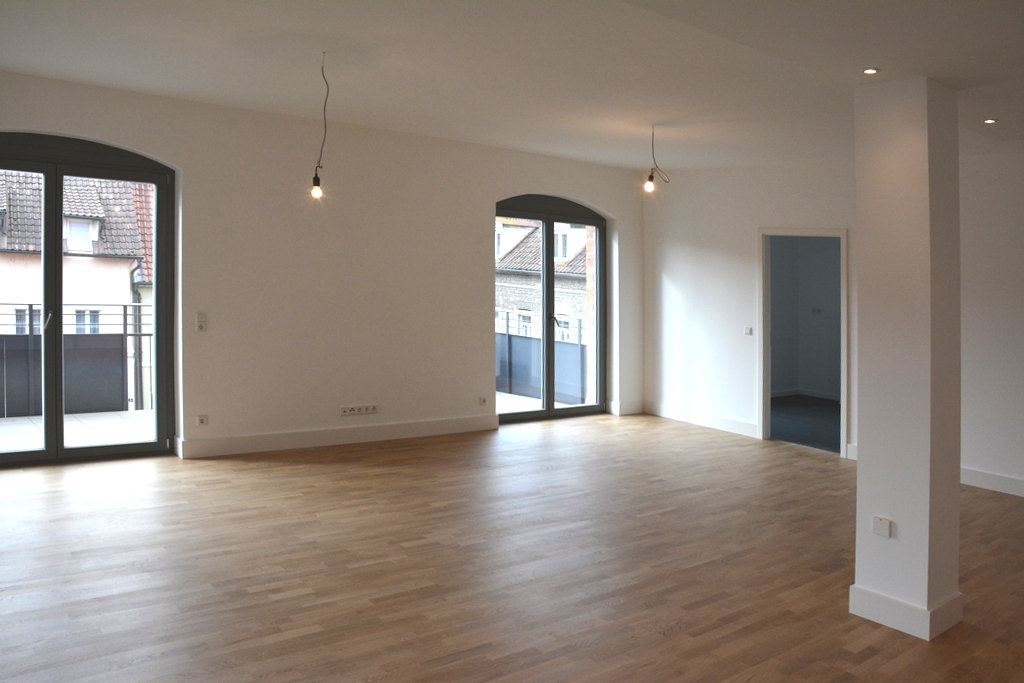door: (1, 131, 181, 462), (494, 188, 621, 438), (759, 227, 848, 456)
pillar: (854, 78, 962, 641)
wall: (1, 70, 643, 473), (644, 144, 1023, 498)
